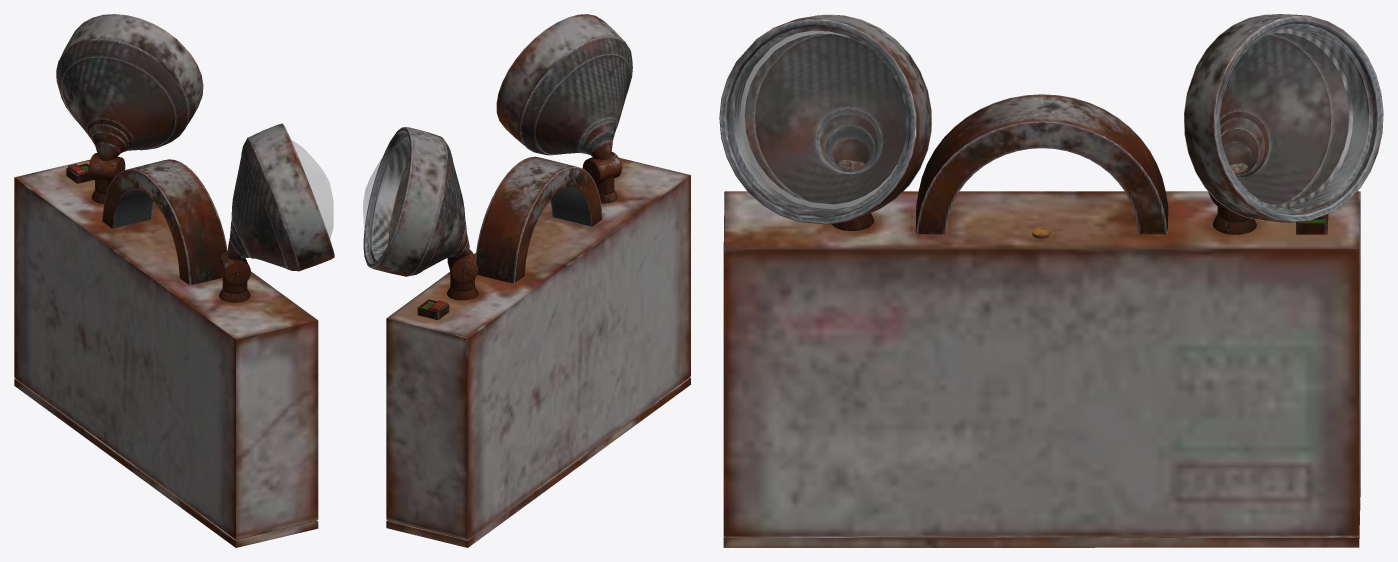
The model's file is rusty_twin_spot_emergency_light.glb.
3 renders of one model, left to right at view 1: azimuth 30°, elevation 25°; view 2: azimuth 150°, elevation 25°; view 3: azimuth 270°, elevation 25°, orthographic. The views are drawn at different scales.
Parts seen in each view (by area): view 1: Cube.001, light frame.001, light frame, Cube.003, light glass, Cylinder.002, Cylinder.004; view 2: Cube.001, light frame, light frame.001, Cube.003, light glass.001, Cylinder.004, Cylinder.002; view 3: Cube.001, light frame, light frame.001, light glass, light glass.001, Cube.003, Cylinder.004.
Part boxes in pixels (x1,y1,x2,y2): Cube.001: (14,159,318,547); light frame.001: (56,14,203,160); light frame: (228,123,334,271); Cube.003: (102,159,227,285); light glass: (291,140,333,238); Cylinder.002: (218,250,250,302); Cylinder.004: (88,153,125,203); Cube.001: (386,157,690,547); light frame: (496,14,632,159); light frame.001: (363,127,469,276); Cube.003: (475,156,602,283); light glass.001: (363,137,409,259); Cylinder.004: (447,249,478,300); Cylinder.002: (582,152,621,203); Cube.001: (723,191,1360,547); light frame: (719,14,931,224); light frame.001: (1184,14,1383,222); light glass: (735,31,905,210); light glass.001: (1220,28,1367,208); Cube.003: (915,94,1168,234); Cylinder.004: (1208,162,1256,234).
Size of the model in its own units: 1.42 by 3.56 by 4.03.
2 materials, 2 textured.
